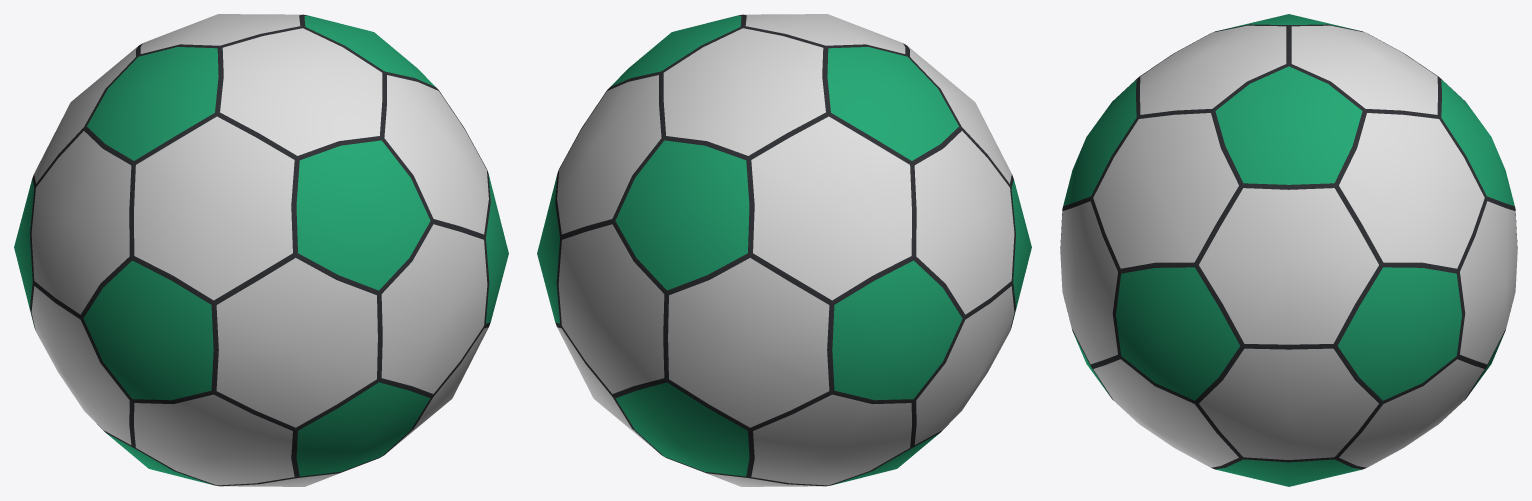
File: lp_ball.glb
3 views of the same model, side by side, from view 1: azimuth 30°, elevation 25°; view 2: azimuth 150°, elevation 25°; view 3: azimuth 270°, elevation 25° (orthographic). The views are drawn at different scales.
Parts seen in each view (by area): view 1: ball; view 2: ball; view 3: ball.
Boxes of the visible parts, left/top/right/bottom form: ball: left=14, top=14, right=508, bottom=486; ball: left=537, top=14, right=1031, bottom=486; ball: left=1060, top=14, right=1517, bottom=486.
Bounding box in the file's own units: 1.52 × 1.52 × 1.52.
